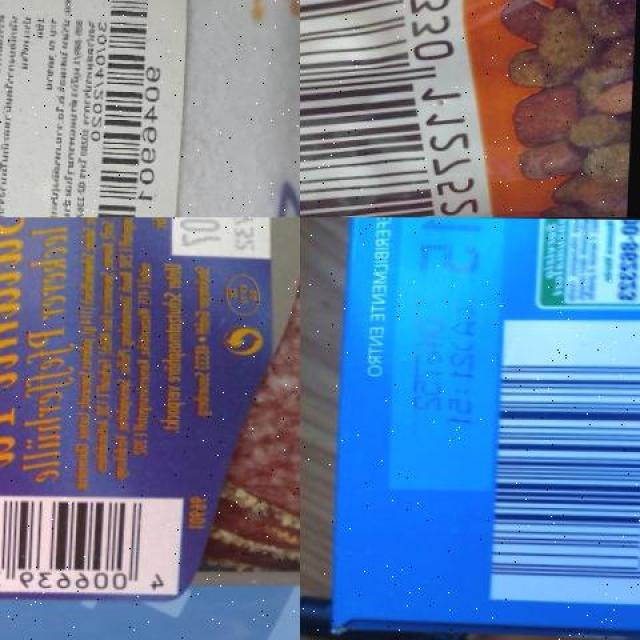Barcode: (300, 0, 514, 217), (493, 317, 640, 599), (83, 0, 169, 217), (0, 492, 183, 592)
